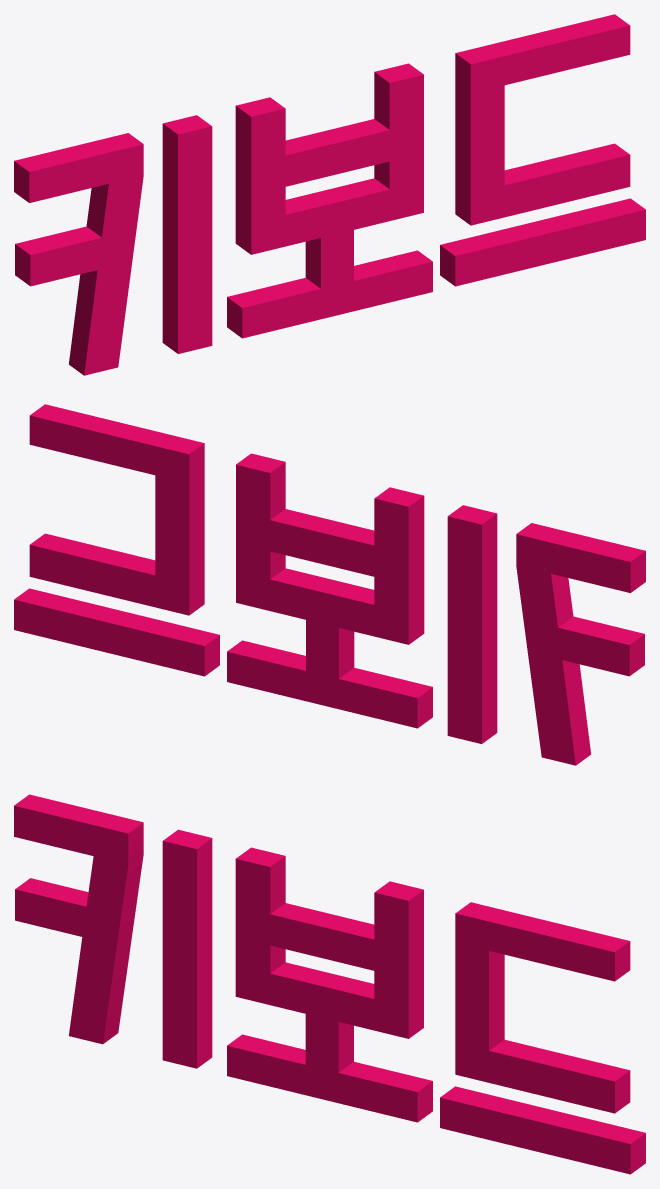
Rendered from synopKey.FBX.
3 views of the same model, one above another, from view 1: azimuth 30°, elevation 25°; view 2: azimuth 150°, elevation 25°; view 3: azimuth 330°, elevation 25° (orthographic).
Parts seen in each view (by area): view 1: Text016; view 2: Text016; view 3: Text016.
Boxes of the visible parts, <box> form: Text016: <box>14,14,645,375</box>; Text016: <box>14,404,645,765</box>; Text016: <box>14,794,645,1174</box>.
Bounding box in the file's own units: 232 × 78.8 × 10.
